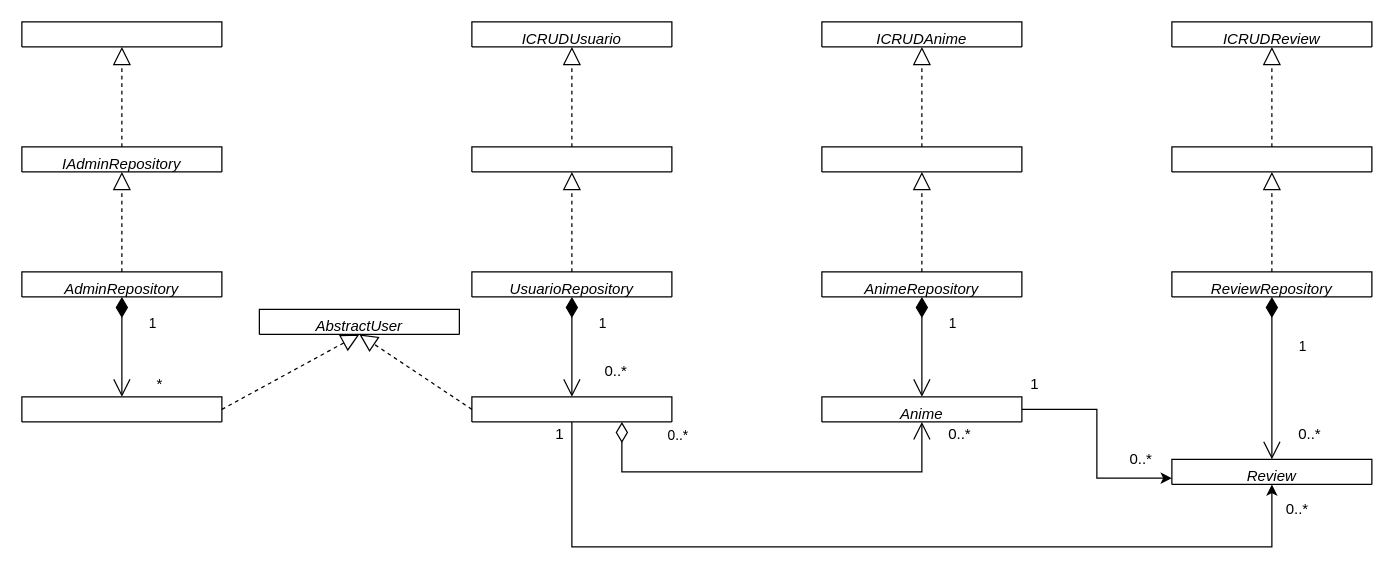
This 1394x579 diagram has some shape labels left out. The centre of each missing label's shape, as x and y in pixels:
Administrador: point (121, 409)
IAnimeRepository: point (921, 159)
ICRUDAdmin: point (121, 34)
IReviewRepository: point (1271, 159)
IUsuarioRepository: point (571, 159)
Usuario: point (571, 409)
